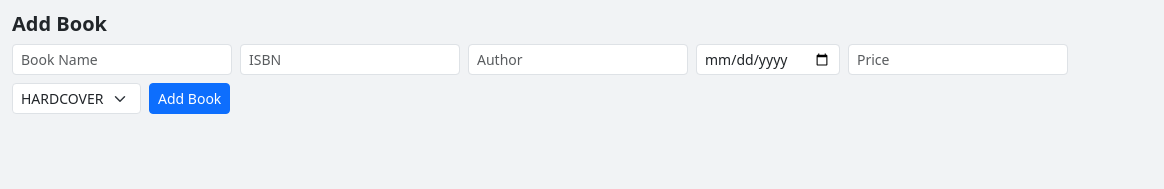
BookForm › muestra un error si el backend falla
Type "X" into the field labelled "Book Name" at coordinates (122, 60), box x1=12 y1=44 x2=232 y2=75
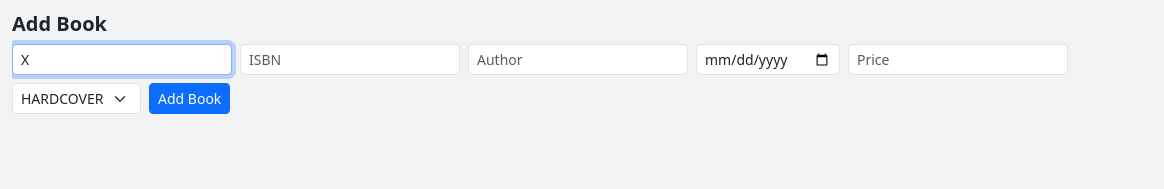
Type "1" into the field labelled "ISBN" at coordinates (350, 60), box x1=240 y1=44 x2=460 y2=75
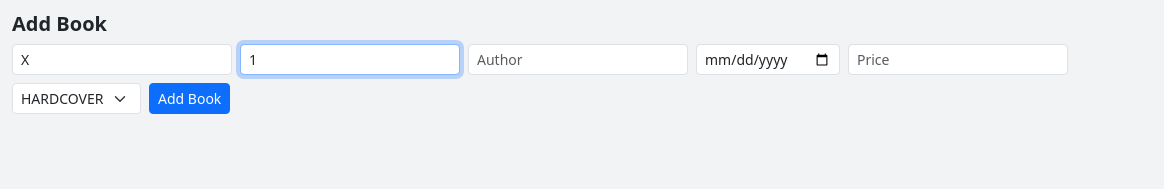
Click the button "Add Book" at coordinates (190, 98), box x1=149 y1=83 x2=230 y2=114
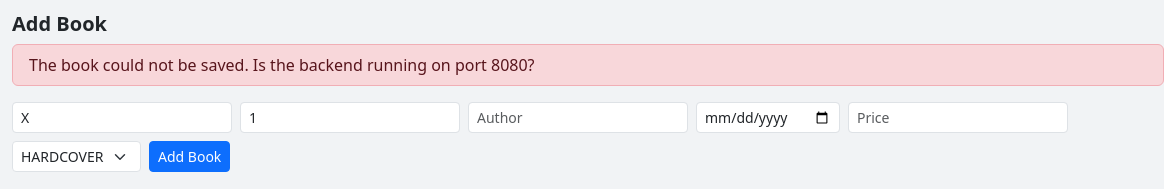
expect the message shows "could not be saved": met, box x1=29 y1=54 x2=534 y2=76
